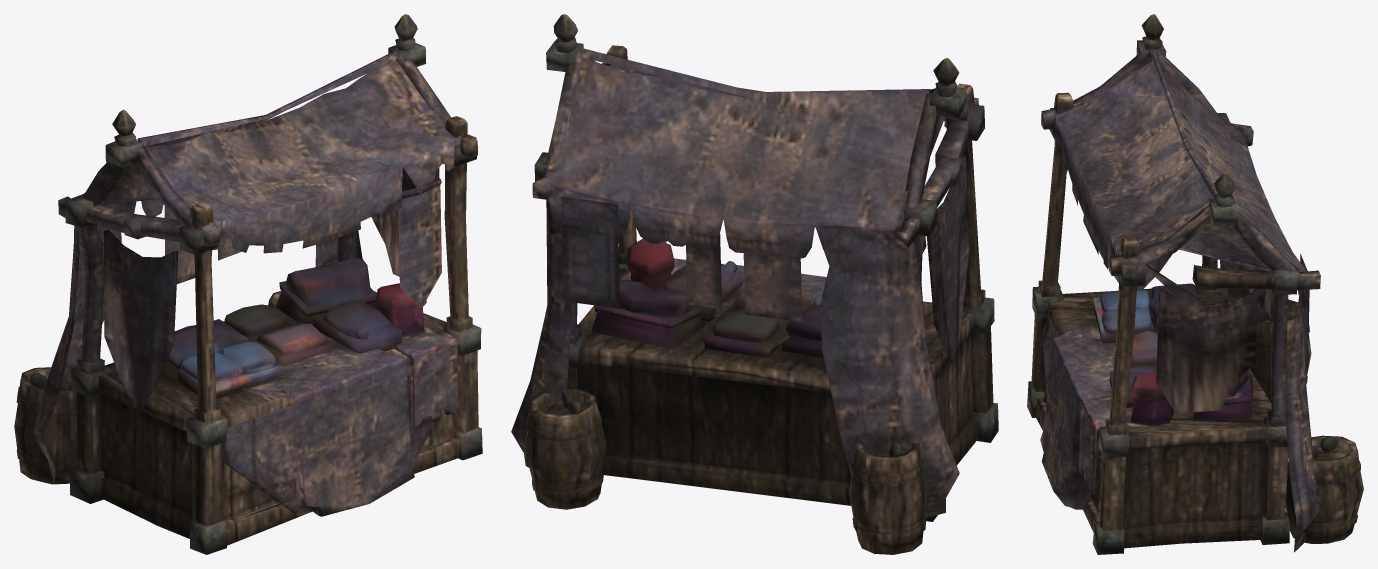
File: cloth.glb
3 views of the same model, side by side, from view 1: azimuth 30°, elevation 25°; view 2: azimuth 150°, elevation 25°; view 3: azimuth 270°, elevation 25° (orthographic). The views are drawn at different scales.
Parts seen in each view (by area): view 1: market_stall_cloth; view 2: market_stall_cloth; view 3: market_stall_cloth.
Part boxes in pixels (x1,y1,x2,y2): market_stall_cloth: (14,14,482,554); market_stall_cloth: (511,14,998,554); market_stall_cloth: (1027,14,1363,554).
Size of the model in its own units: 3 by 3.05 by 2.37.
Materials: 1 (1 with a texture image).
